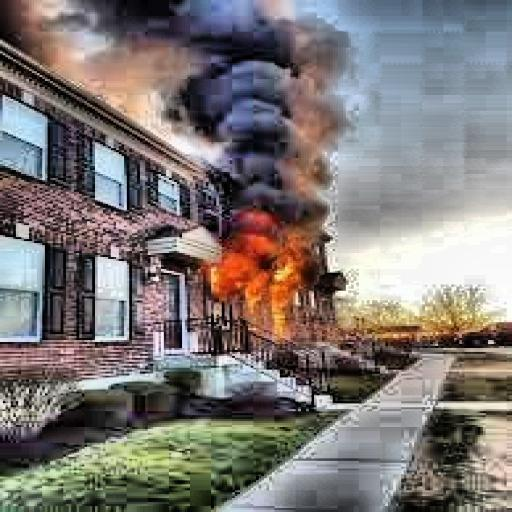fire: (187, 209, 343, 350)
